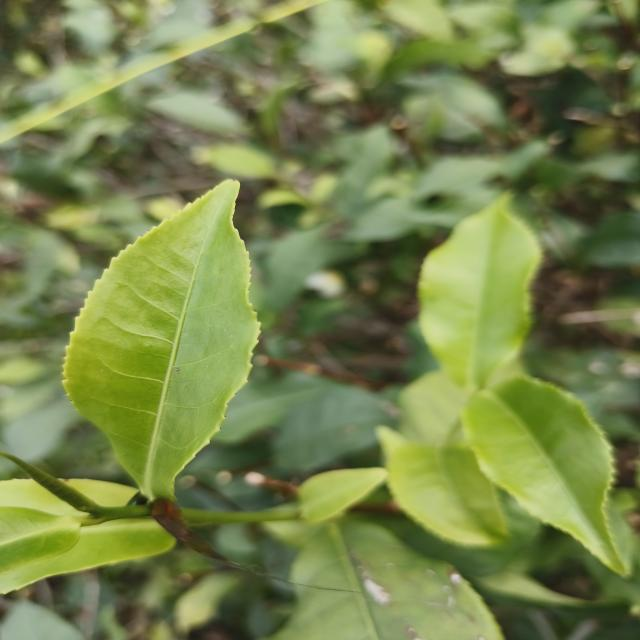Leaf: (64, 180, 259, 500), (462, 378, 630, 573), (270, 519, 503, 640), (418, 194, 540, 391), (382, 371, 507, 547), (0, 517, 176, 594), (274, 386, 388, 472), (218, 374, 320, 443), (0, 507, 80, 574), (298, 467, 387, 522), (147, 91, 243, 134), (416, 156, 499, 197), (0, 479, 87, 518), (63, 479, 135, 507)
